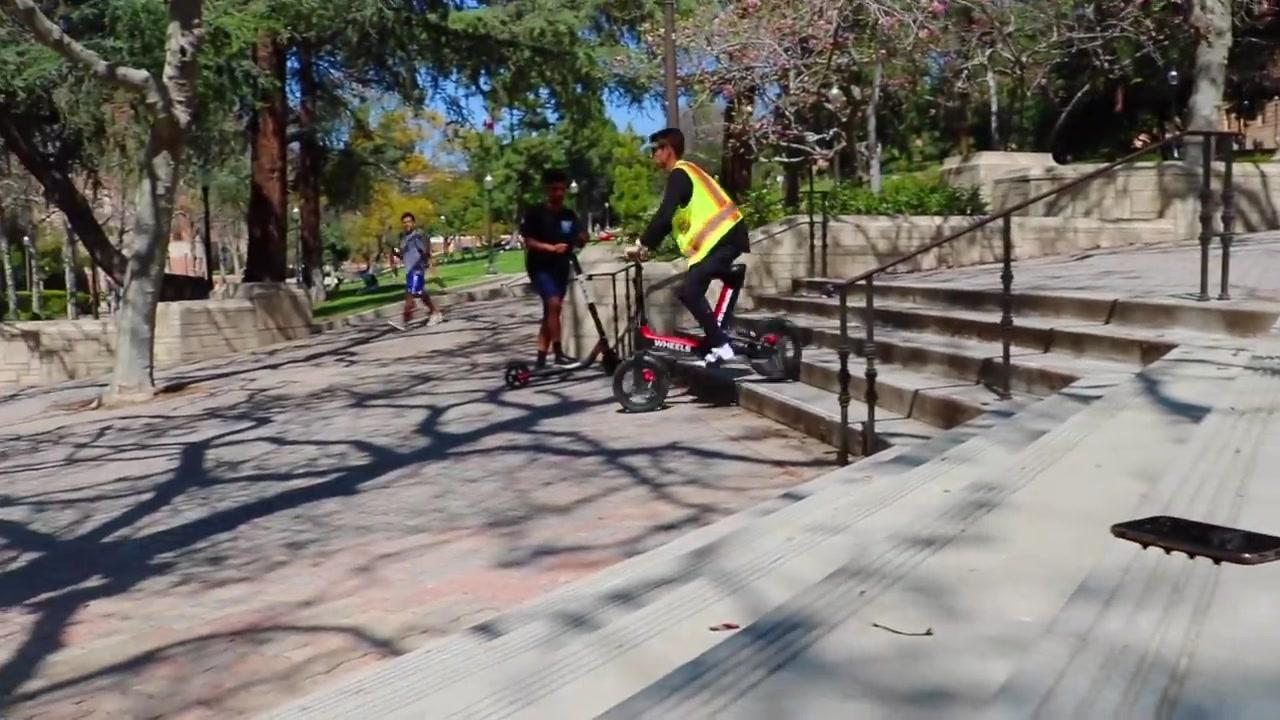vest: (668, 158, 745, 264)
